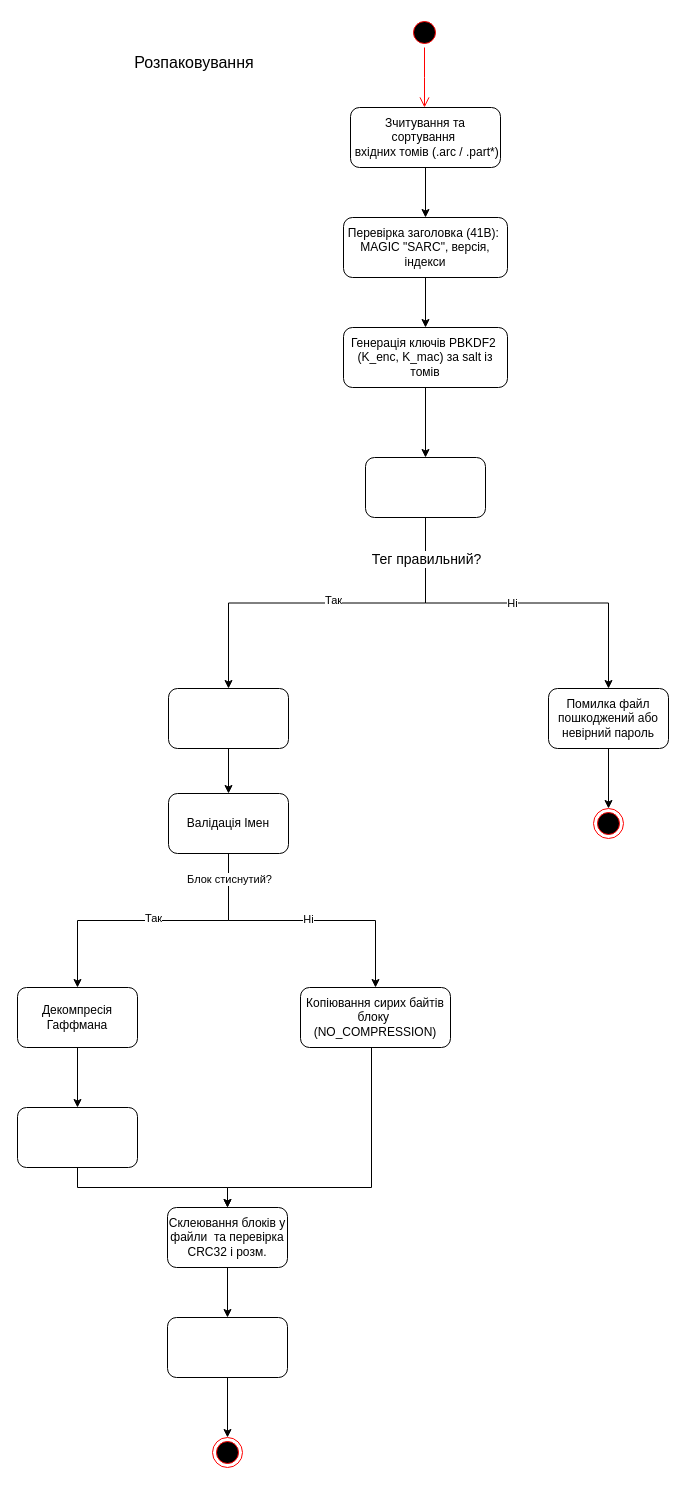
Image size: 686x1485. Some labels were removed from this diagram. The shapes that lost their labels are listed below. From the top down, each one's centre as x and y in pixels, then its label:
At [425,487]: "Перевірка HMAC-SHA256 (Header + Ciphertext)".
At [228,718]: "AES-256-CTR Розшифровка".
At [77,1137]: "Декодер LZ77".
At [227,1347]: "Запис файлів на диск".
